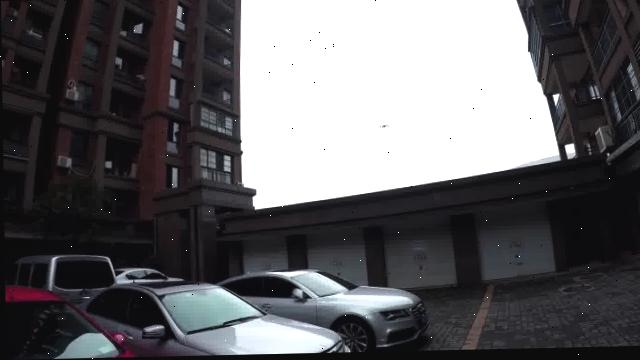drone: (373, 112, 400, 131)
